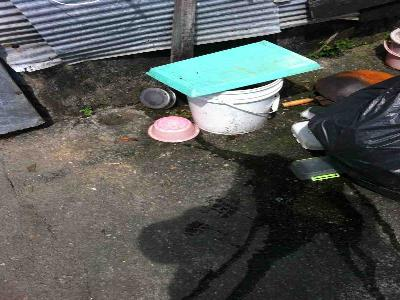bowl: (147, 115, 200, 144), (138, 83, 177, 110)
bucket: (185, 80, 284, 136)
plate: (146, 37, 326, 98)
